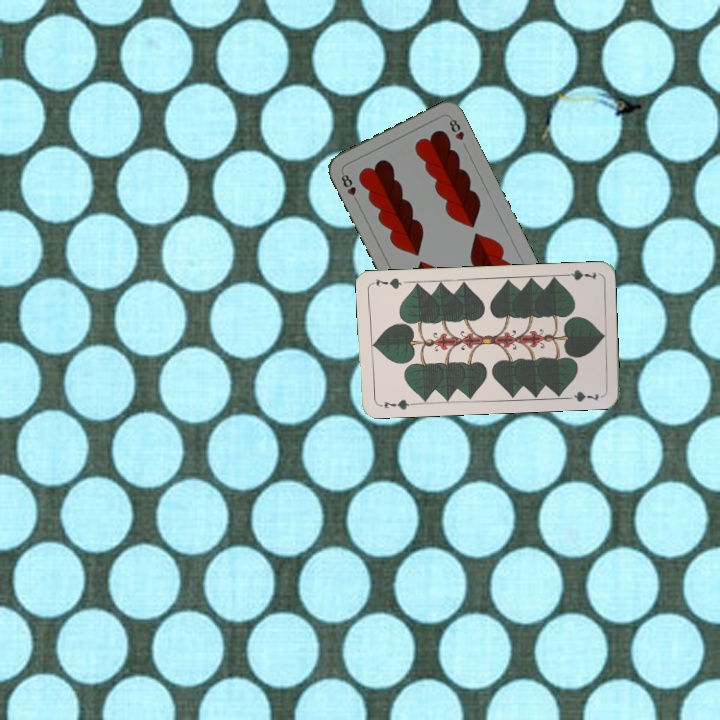G7: (558, 266, 599, 283), (375, 396, 416, 412)
H8: (337, 169, 361, 206)
